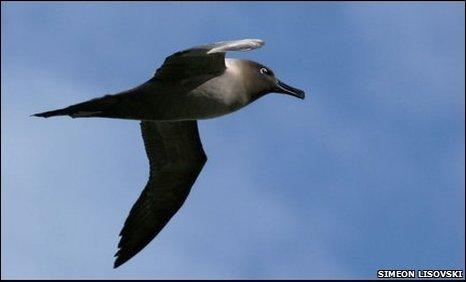bird: (26, 38, 307, 268)
